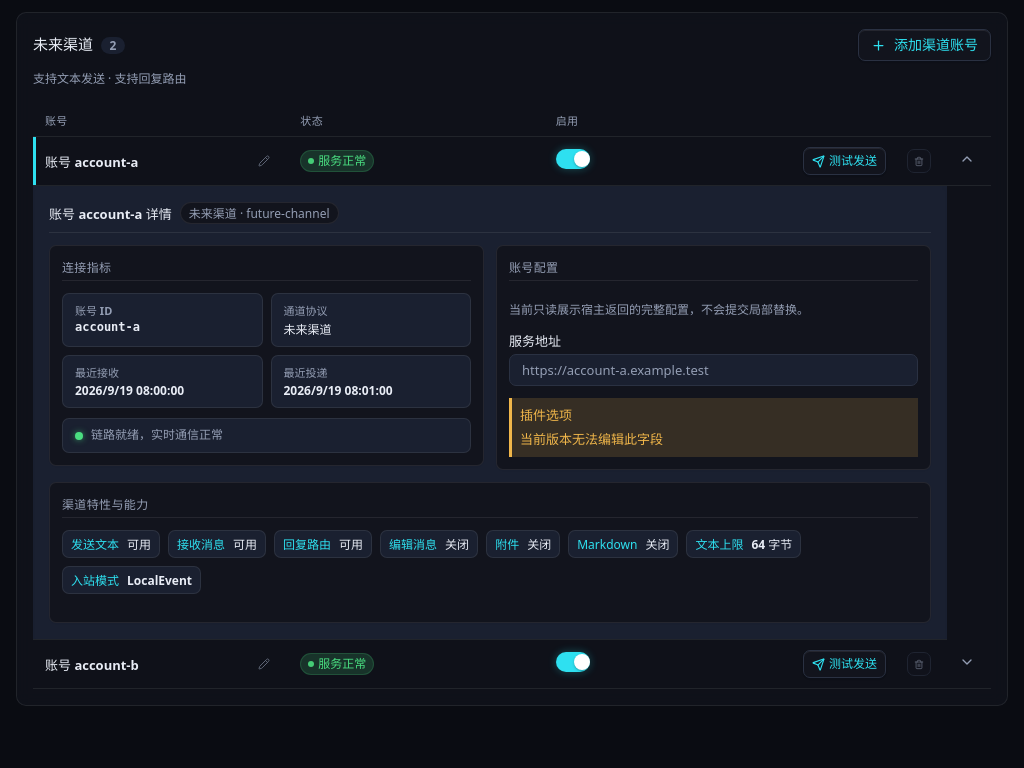
Test case: ChannelsPage › isolates account details and refetches when the selected account changes
Click the button "账号 account-b": (145, 664) [45, 655, 244, 674]
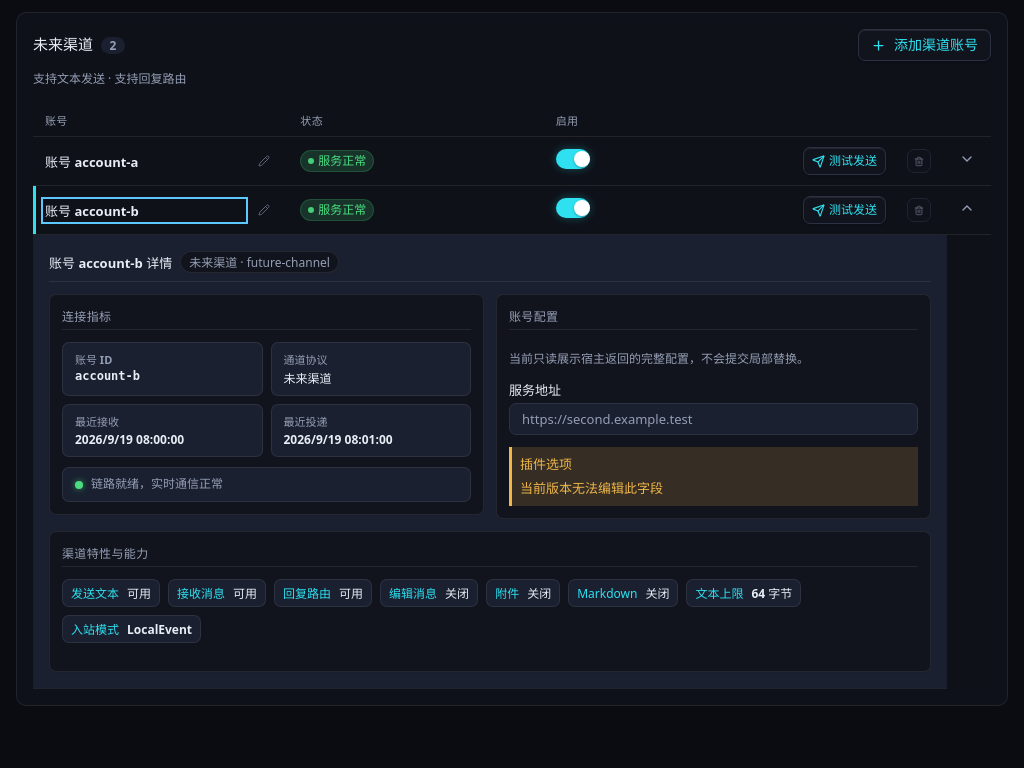
Now the heading "账号 account-b 详情" is shown, box [49, 253, 172, 272]
